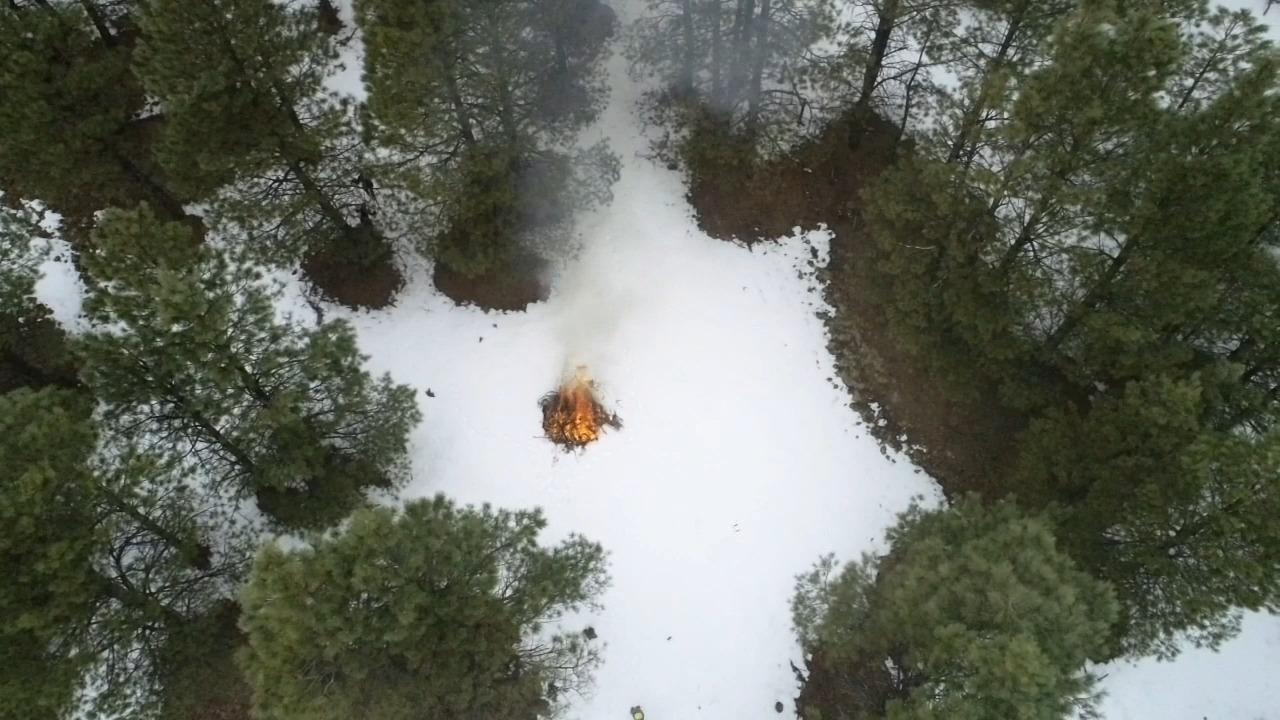fire: (543, 364, 608, 444)
smoke: (635, 0, 831, 130)
